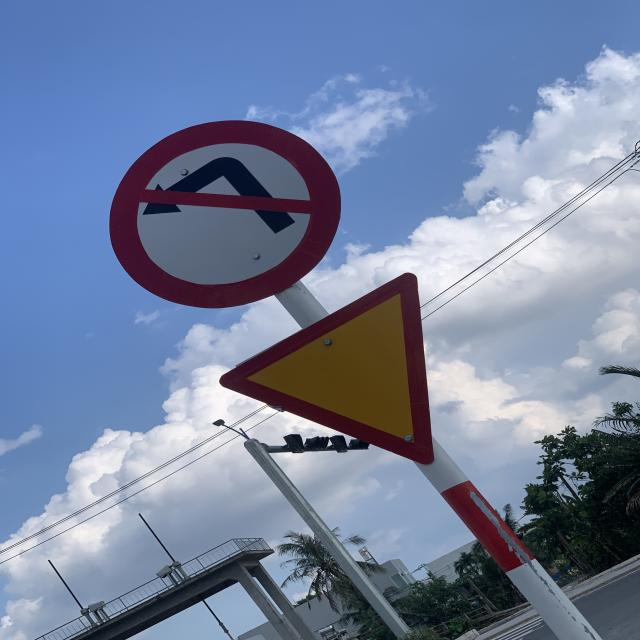Cam_Re_Trai: (117, 121, 343, 309)
Gioi_Han_Toc_Do_25: (225, 273, 433, 471)
